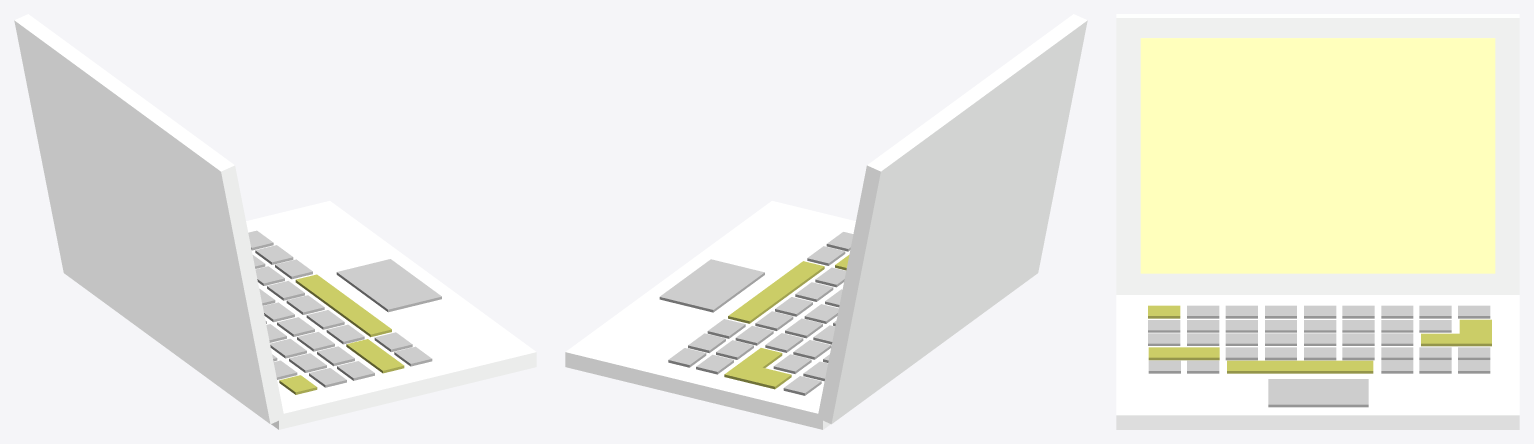
File: laptop.gltf
3 renders of one model, left to right at view 1: azimuth 30°, elevation 25°; view 2: azimuth 150°, elevation 25°; view 3: azimuth 270°, elevation 25°, orthographic. The views are drawn at different scales.
Parts seen in each view (by area): view 1: Cube, Cube.001, Cube.048, Cube.045, Cube.021; view 2: Cube, Cube.001, Cube.048, Cube.045, Cube.012; view 3: Cube.002, Cube.001, Cube, Cube.048, Cube.045, Cube.012, Cube.021, Cube.008, Cube.009, Cube.026, Cube.027, Cube.042 (+31 smaller).
Part boxes in pixels (<box>): Cube: <box>14,14,284,424</box>; Cube.001: <box>246,201,536,429</box>; Cube.048: <box>336,259,441,312</box>; Cube.045: <box>295,274,391,337</box>; Cube.021: <box>346,339,404,373</box>; Cube: <box>817,14,1087,424</box>; Cube.001: <box>565,201,855,429</box>; Cube.048: <box>659,259,764,312</box>; Cube.045: <box>728,261,824,323</box>; Cube.012: <box>724,348,791,389</box>; Cube.002: <box>1140,38,1495,273</box>; Cube.001: <box>1116,295,1519,429</box>; Cube: <box>1116,14,1519,294</box>; Cube.048: <box>1268,379,1368,407</box>; Cube.045: <box>1227,360,1373,373</box>; Cube.012: <box>1421,319,1491,346</box>; Cube.021: <box>1148,347,1219,360</box>; Cube.008: <box>1419,305,1451,318</box>; Cube.009: <box>1342,305,1374,318</box>; Cube.026: <box>1419,347,1451,360</box>; Cube.027: <box>1342,347,1374,360</box>; Cube.042: <box>1419,360,1451,373</box>.
Bounding box in the file's own units: 4.41 × 3.67 × 5.
